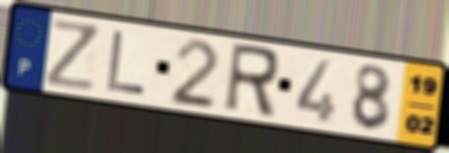2: (170, 36, 220, 111)
4: (293, 57, 339, 124)
8: (351, 63, 395, 133)
L: (104, 28, 149, 97)
R: (220, 40, 282, 122)
Z: (44, 17, 101, 94)
